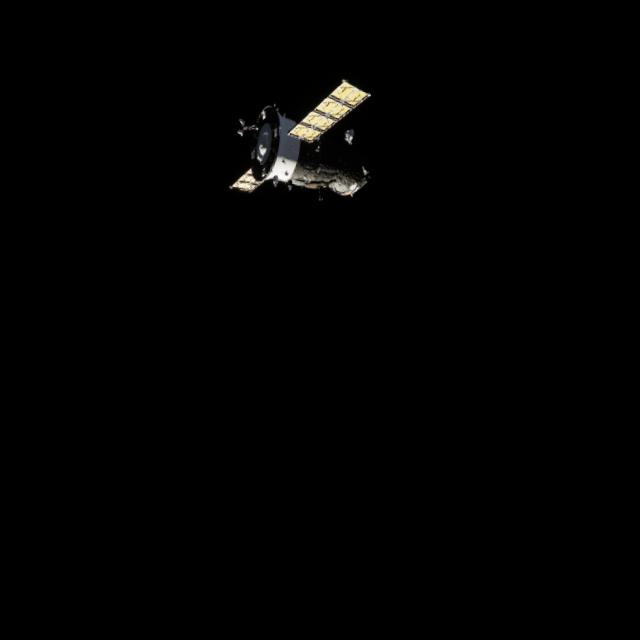Satellites revolving around earth: (224, 60, 386, 216)
